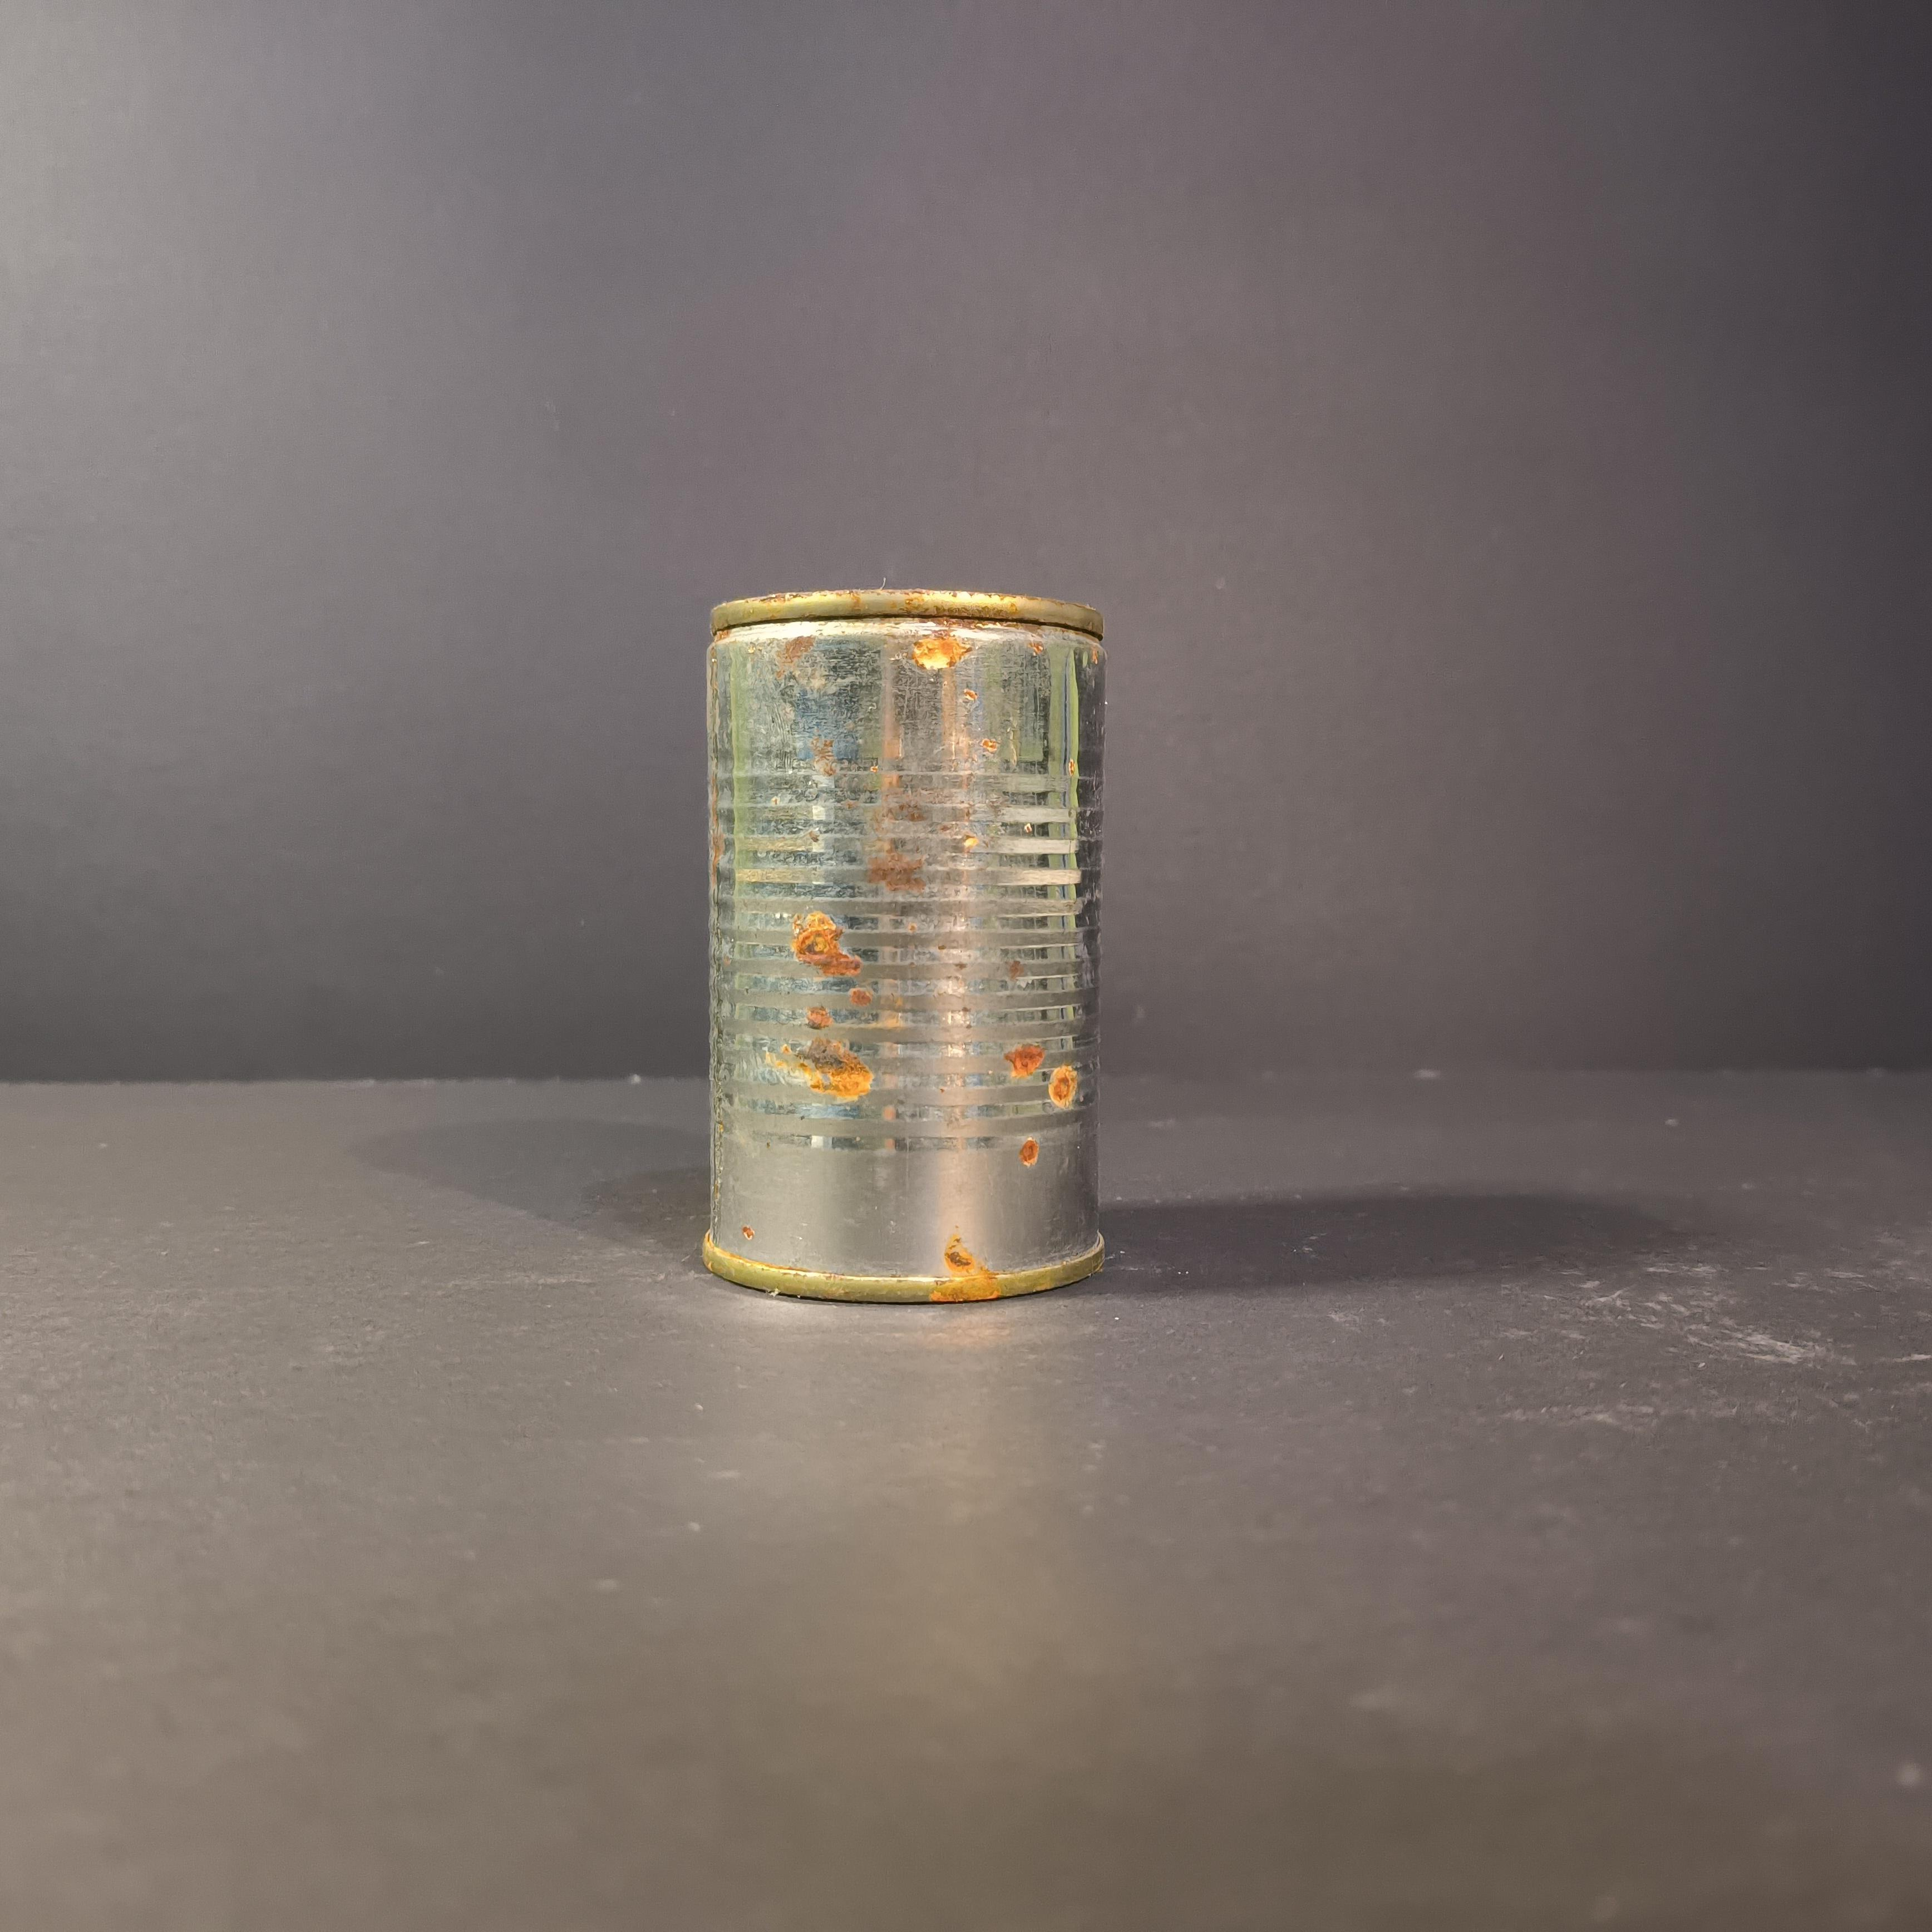Rusted: (690, 559, 1132, 1307)
